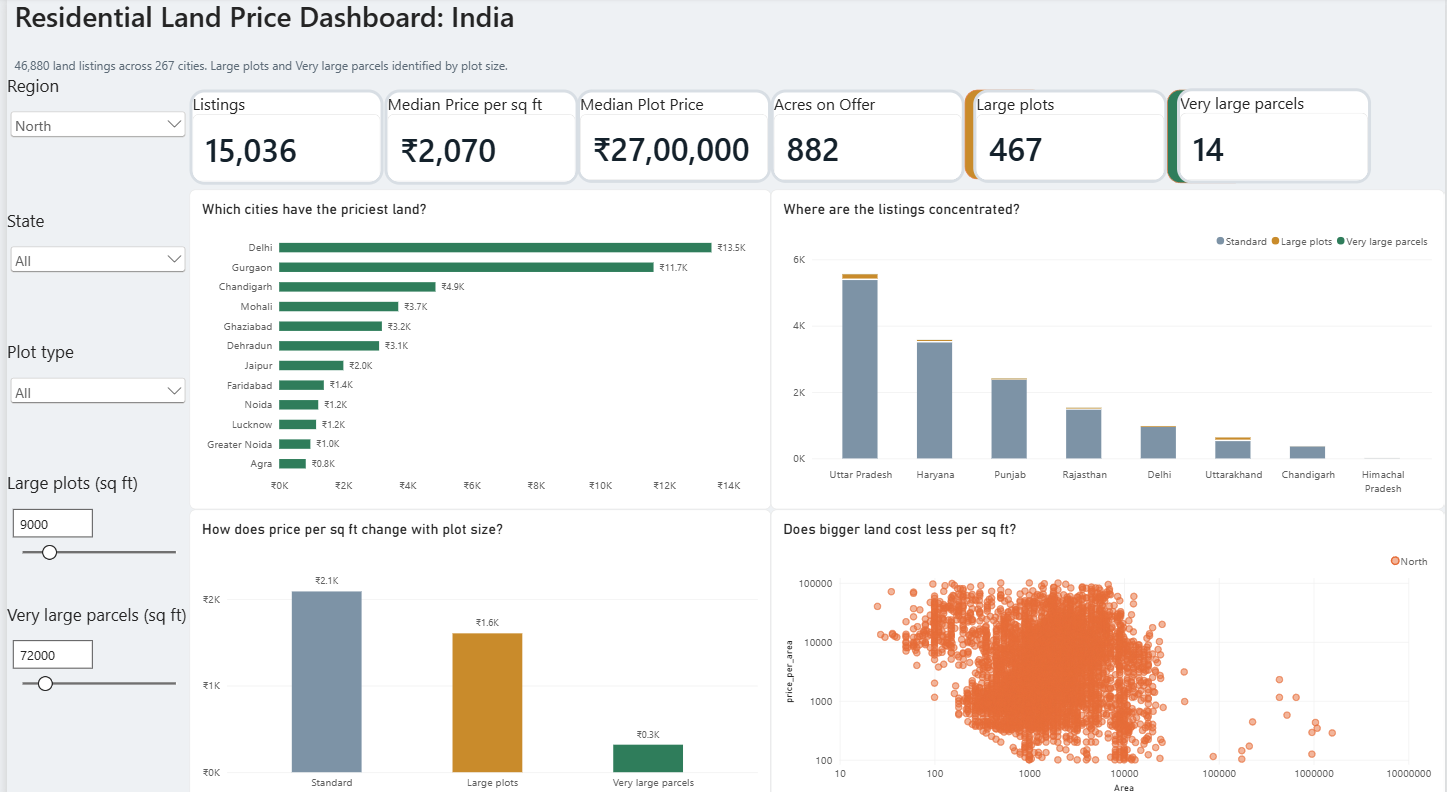

The dashboard page shown, as its layout file describes it:
{"tool":"powerbi","page":{"name":"Land Market Overview","canvas":[1920,1080],"ordinal":0},"visuals":[{"type":"textbox","box":[10.3,0,1910.1,53.5],"z":0},{"type":"textbox","box":[10.3,80.3,1910.1,43.2],"z":1000},{"type":"slicer","title":"Region","fields":{"Values":["Land.region"]},"box":[0,101.9,243.8,175.3],"z":2000},{"type":"slicer","title":"State","fields":{"Values":["Land.state"]},"box":[0,282.2,243.8,175.3],"z":3000},{"type":"slicer","title":"Plot type","fields":{"Values":["Plot Segments.Segment"]},"box":[0,457.5,243.8,175.3],"z":4000},{"type":"cardVisual","title":"Listings","fields":{"Data":["Land.Seg Listings"]},"box":[243.8,123.6,259.5,127],"z":5000},{"type":"cardVisual","title":"Acres on Offer","fields":{"Data":["Land.Seg Acres"]},"box":[1020.2,123.6,259.5,125.2],"z":6000},{"type":"cardVisual","title":"Median Plot Price","fields":{"Data":["Land.Seg Median Plot Price"]},"box":[761.4,123.6,259.5,125.2],"z":7000},{"type":"shape","box":[1279,123.6,108.5,120.2],"z":8500},{"type":"cardVisual","title":"Large plots","fields":{"Data":["Land.Hotel Sites"]},"box":[1290.7,123.6,259.5,125.2],"z":8750},{"type":"cardVisual","title":"Median Price per sq ft","fields":{"Data":["Land.Seg Median Price per sq ft"]},"box":[504.3,123.6,259.5,127],"z":11000},{"type":"shape","box":[1549.5,123.6,108.5,125.2],"z":11250},{"type":"cardVisual","title":"Very large parcels","fields":{"Data":["Land.Township Sites"]},"box":[1562.9,121.9,259.5,127],"z":11500},{"type":"clusteredBarChart","title":"Which cities have the priciest land?","fields":{"Category":["Land.city"],"Y":["Land.Seg Median Price per sq ft"]},"box":[243.8,257.1,776.4,427.5],"z":11501},{"type":"clusteredColumnChart","title":"How does price per sq ft change with plot size?","fields":{"Category":["Plot Segments.Segment"],"Y":["Land.Seg Median Price per sq ft"]},"box":[243.8,684.6,776.4,395.7],"z":11502},{"type":"columnChart","title":"Where are the listings concentrated?","fields":{"Category":["Land.state"],"Series":["Plot Segments.Segment"],"Y":["Land.Seg Listings"]},"box":[1020.2,257.1,900,427.5],"z":11503},{"type":"scatterChart","title":"Does bigger land cost less per sq ft?","fields":{"Series":["Land.region"],"X":["Land.Area"],"Y":["Land.price_per_area"]},"box":[1020.2,684.6,900,395.7],"z":11504},{"type":"slicer","title":"Large plots (sq ft)","fields":{"Values":["Hotel-scale from.Hotel-scale from"]},"box":[0,632.8,243.8,175.3],"z":11505},{"type":"slicer","title":"Very large parcels (sq ft)","fields":{"Values":["Township-scale from.Township-scale from"]},"box":[0,808.2,243.8,197],"z":11506}]}

Visuals, with their boxes in screenshot pixels (x1, y1, x2, y2), scaled from the page's 1920x1080 canvas onto the 1447x792 screenshot:
textbox: 8,0,1446,39
textbox: 8,59,1446,91
"Region" slicer: 0,75,184,203
"State" slicer: 0,207,184,336
"Plot type" slicer: 0,336,184,464
"Listings" cardVisual: 184,91,379,184
"Acres on Offer" cardVisual: 769,91,964,182
"Median Plot Price" cardVisual: 574,91,769,182
shape: 964,91,1046,179
"Large plots" cardVisual: 973,91,1168,182
"Median Price per sq ft" cardVisual: 380,91,576,184
shape: 1168,91,1250,182
"Very large parcels" cardVisual: 1178,89,1373,183
"Which cities have the priciest land?" clusteredBarChart: 184,189,769,502
"How does price per sq ft change with plot size?" clusteredColumnChart: 184,502,769,791
"Where are the listings concentrated?" columnChart: 769,189,1446,502
"Does bigger land cost less per sq ft?" scatterChart: 769,502,1446,791
"Large plots (sq ft)" slicer: 0,464,184,593
"Very large parcels (sq ft)" slicer: 0,593,184,737
